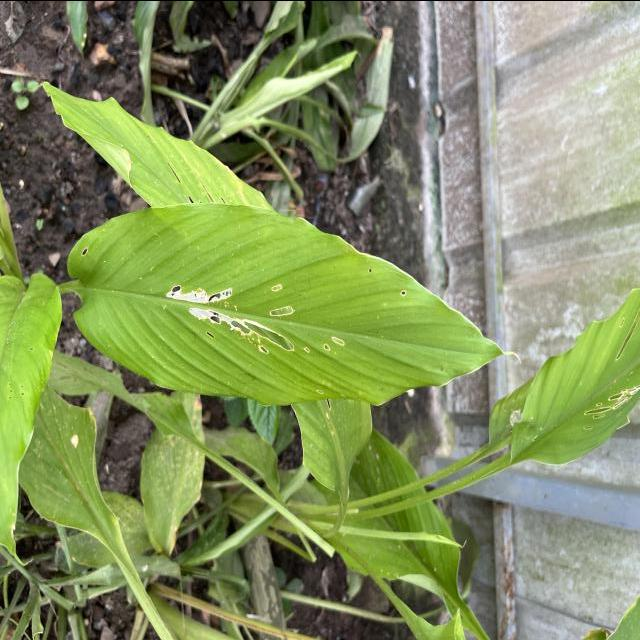Curcuma longa: (65, 199, 528, 410)
